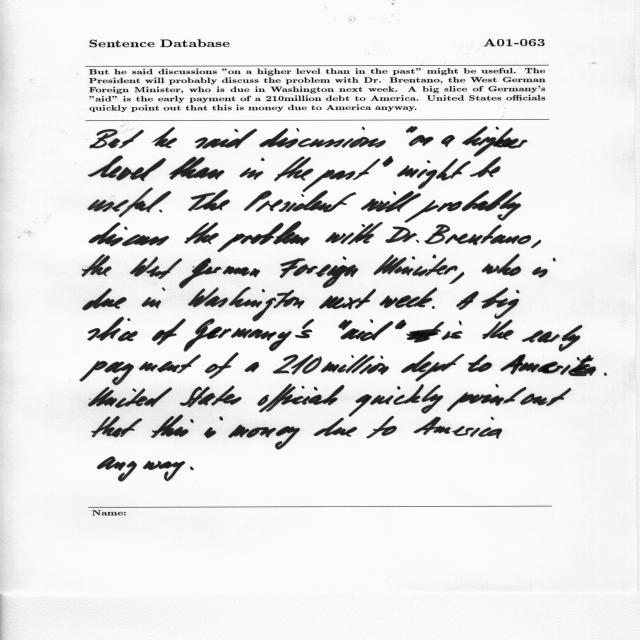word: (183, 319, 314, 352), (405, 189, 522, 223), (188, 287, 304, 321), (80, 355, 201, 386), (303, 156, 394, 192), (349, 384, 443, 417), (218, 222, 310, 253), (259, 127, 386, 148), (244, 190, 356, 213), (280, 257, 358, 289), (273, 354, 389, 375), (258, 384, 345, 412), (179, 258, 260, 288), (88, 188, 171, 217), (424, 225, 531, 246), (447, 384, 526, 412), (98, 457, 186, 482), (500, 354, 596, 376), (462, 126, 528, 157), (89, 222, 169, 247), (414, 417, 503, 439), (88, 156, 166, 181), (374, 254, 458, 277), (401, 352, 464, 382), (228, 425, 300, 450), (88, 387, 172, 408), (417, 159, 471, 189), (522, 325, 582, 352), (180, 386, 242, 408), (325, 222, 383, 245), (169, 157, 224, 180), (361, 191, 421, 212), (88, 317, 138, 342), (195, 129, 257, 149), (380, 288, 438, 309), (482, 287, 520, 319), (319, 289, 376, 310), (130, 257, 182, 280), (341, 319, 394, 341), (90, 129, 144, 149), (92, 416, 142, 437), (275, 156, 314, 182), (151, 415, 194, 438), (520, 388, 571, 407), (83, 288, 127, 310), (188, 189, 230, 211), (152, 319, 186, 346), (205, 352, 239, 379), (482, 254, 522, 276), (406, 321, 444, 343), (314, 418, 357, 437), (184, 222, 219, 244), (366, 416, 397, 439), (82, 254, 112, 277), (482, 319, 514, 340), (470, 157, 501, 178), (397, 160, 431, 178), (240, 158, 265, 180), (151, 127, 177, 148), (385, 227, 419, 243), (142, 287, 166, 309), (532, 258, 556, 278), (456, 291, 479, 310), (468, 355, 492, 373), (204, 417, 223, 439), (442, 321, 463, 340), (409, 135, 434, 146), (449, 272, 464, 284), (441, 135, 455, 147), (245, 362, 260, 372), (338, 320, 352, 330), (395, 320, 406, 330), (531, 240, 541, 248), (406, 126, 417, 133), (190, 467, 194, 471), (604, 372, 607, 376), (159, 210, 162, 213), (432, 306, 435, 309)
